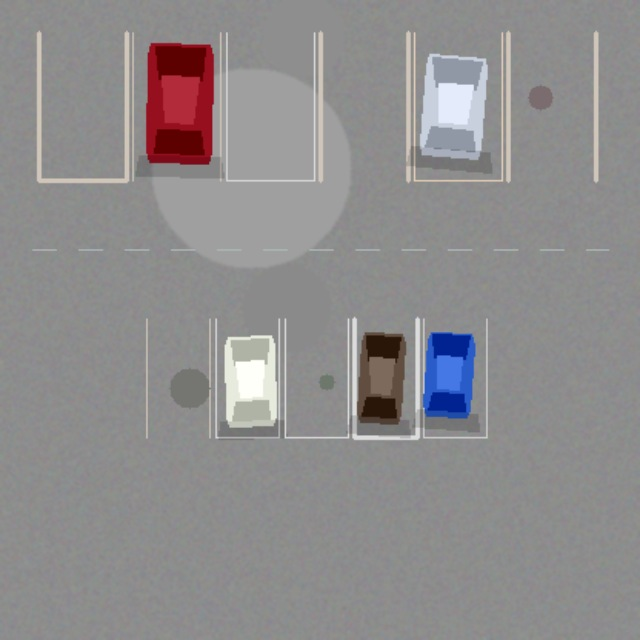space-empty: (38, 32, 126, 180), (226, 32, 314, 180), (320, 32, 408, 180), (508, 32, 595, 180), (146, 318, 209, 437), (285, 318, 348, 437)
space-occupied: (132, 32, 220, 180), (414, 32, 502, 180), (215, 318, 278, 437), (354, 318, 417, 437), (423, 318, 486, 437)
